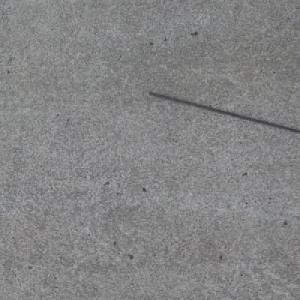LuggagePart: (143, 90, 300, 135)
